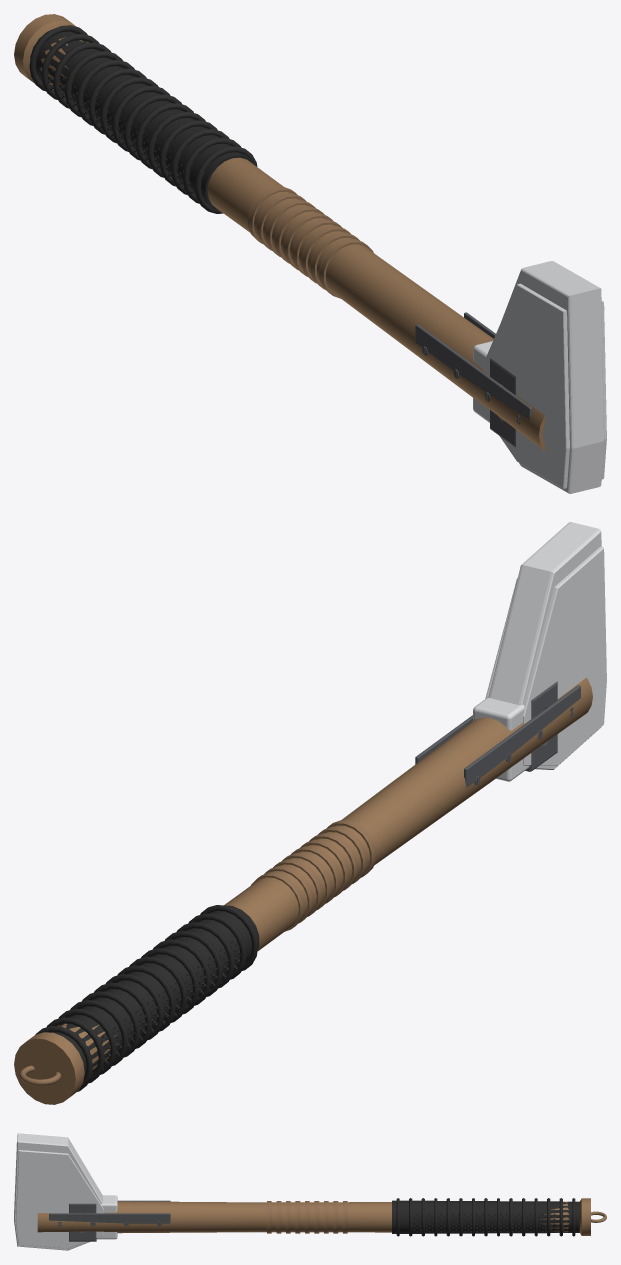
The model's file is mega-weapon-pack-felling-axe-02ec50d4__33406.glb.
3 views of the same model, one above another, from view 1: azimuth 30°, elevation 25°; view 2: azimuth 150°, elevation 25°; view 3: azimuth 270°, elevation 25° (orthographic). The views are drawn at different scales.
Visible parts, largest first — view 1: felling-axe; view 2: felling-axe; view 3: felling-axe.
Part boxes in pixels (<box>): felling-axe: <box>14,14,606,493</box>; felling-axe: <box>14,522,606,1104</box>; felling-axe: <box>14,1133,606,1250</box>.
Bounding box in the file's own units: 0.0492 × 0.1529 × 0.7502.
